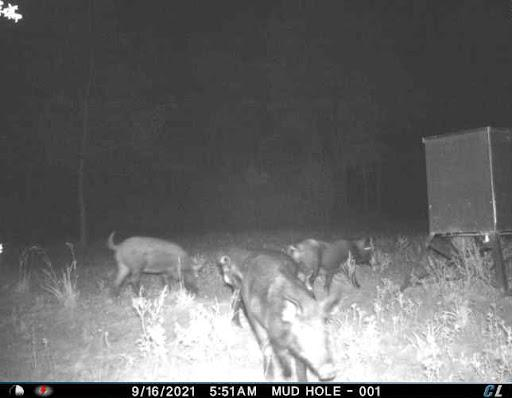Hog: (235, 240, 348, 382), (103, 225, 209, 300), (287, 229, 377, 300)
